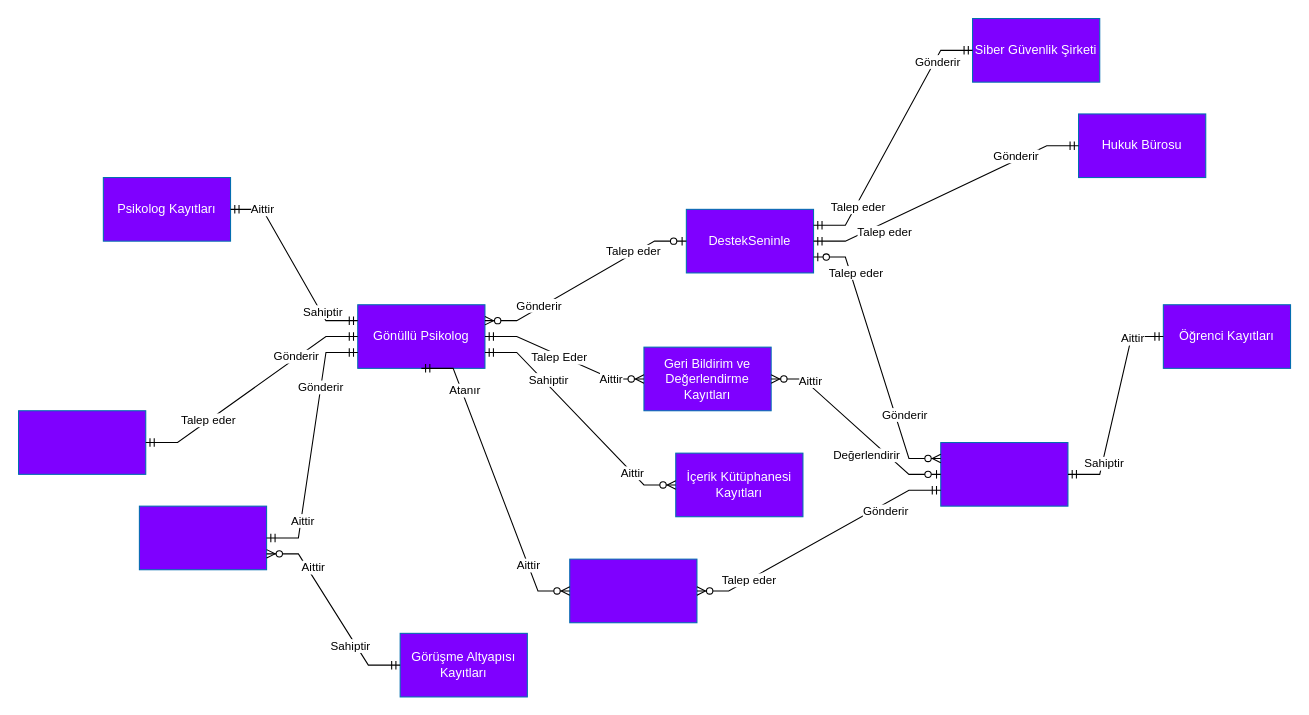
This 1309x715 diagram has some shape labels left out. Here are the shapes that lost their labels. From the top down, the centre of each, then its label:
At point (81, 442): "Acil Durum Kayıtları".
At point (1004, 473): "Öğrenci".
At point (202, 537): "Seans Notları Kayıtları".
At point (633, 590): "Randevu Kayıtları".
